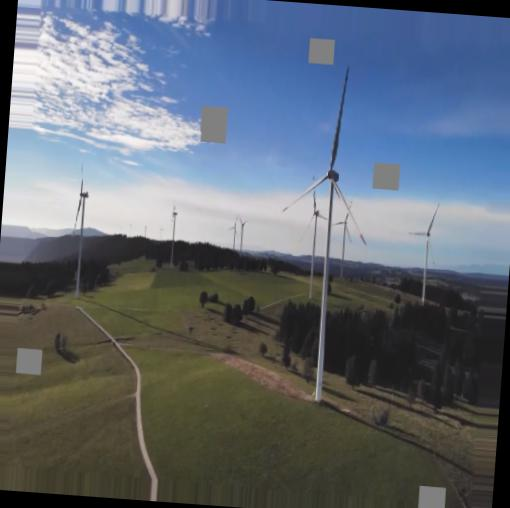wind turbine: (280, 66, 367, 408), (405, 200, 443, 307), (73, 164, 92, 297)
